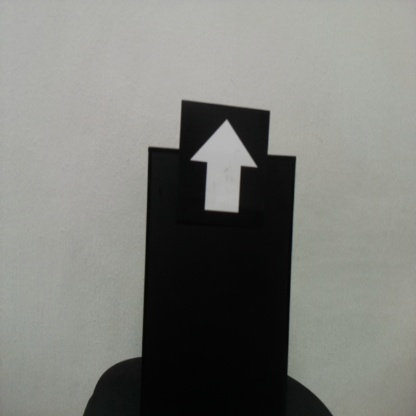id_1: (181, 104, 269, 240)
